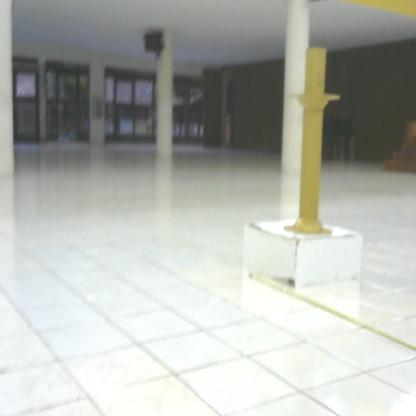pole: (285, 41, 348, 245)
